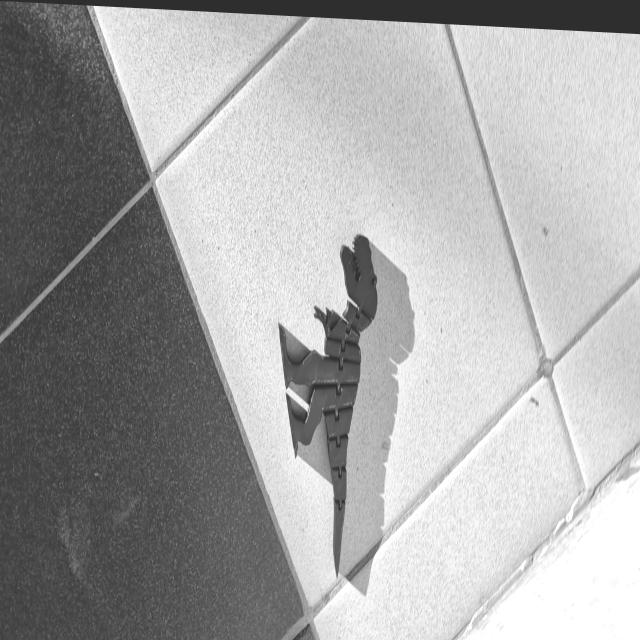dino: (277, 228, 379, 581)
